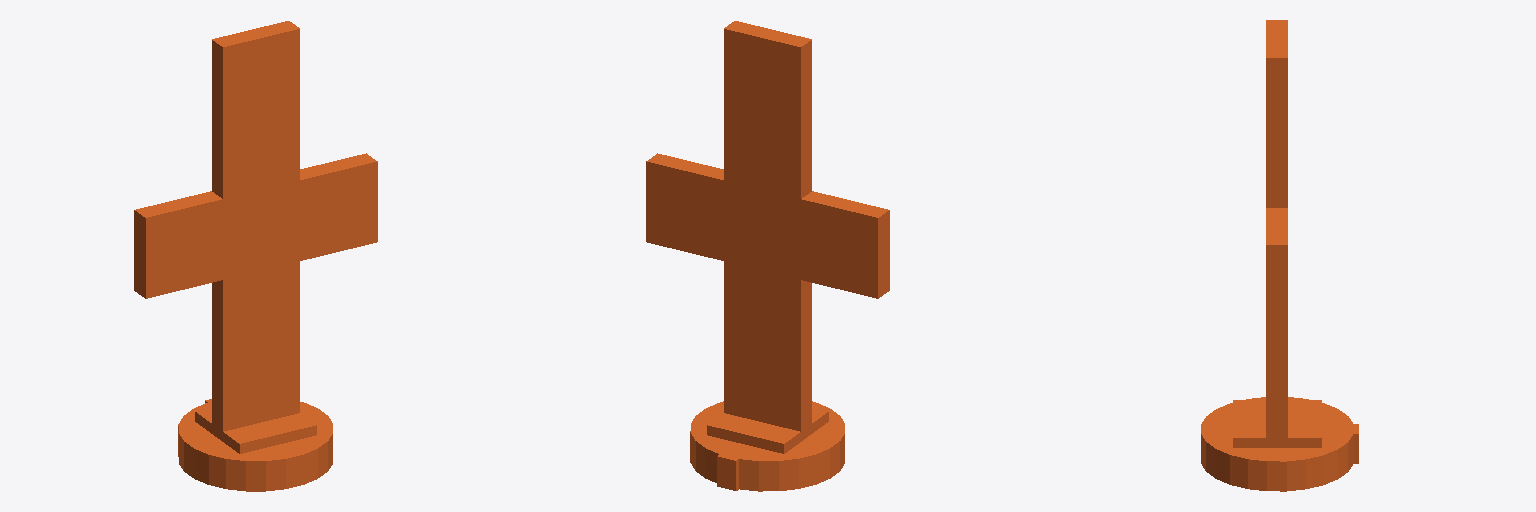
The robot description file, URDF, robot "cutter":
<?xml version="1.0" encoding="utf-8"?>
<!-- This URDF was automatically created by SolidWorks to URDF Exporter! Originally created by [author] ([email redacted]) 
     Commit Version: 1.6.0-4-g7f85cfe  Build Version: 1.6.7995.38578
     For more information, please see http://wiki.ros.org/sw_urdf_exporter -->
<robot
  name="cutter">
  <link
    name="base_link">
    <inertial>
      <origin
        xyz="-5.55111512312578E-17 0.000131288128801255 0.14933332391133"
        rpy="0 0 0" />
      <mass
        value="1.11388593420623" />
      <inertia
        ixx="0.0183745836145232"
        ixy="5.68067392054574E-20"
        ixz="-2.52441420322314E-18"
        iyy="0.0200204795749076"
        iyz="1.96449052887922E-05"
        izz="0.00267273481296689" />
    </inertial>
    <visual>
      <origin
        xyz="0 0 0"
        rpy="0 0 0" />
      <geometry>
        <mesh
          filename="package://cutter/meshes/base_link.STL" />
      </geometry>
      <material
        name="cutter_color">
        <color
          rgba="0.91 0.46 0.21 1" />
      </material>
    </visual>
    <collision>
      <origin
        xyz="0 0 0"
        rpy="0 0 0" />
      <geometry>
        <mesh
          filename="package://cutter/meshes/base_link.STL" />
      </geometry>
    </collision>
  </link>
</robot>

--- Render facts (derived) ---
Views: 3 orthographic renders of the robot side by side, from view 1: azimuth 30°, elevation 25°; view 2: azimuth 150°, elevation 25°; view 3: azimuth 270°, elevation 25°.
Model cutter with 1 links and 0 joints (none), rooted at base_link, posed all joints at 0.
Links seen in each view (by area): view 1: base_link; view 2: base_link; view 3: base_link.
Link boxes in pixels (x1,y1,x2,y2): base_link: (134,21,377,491); base_link: (646,21,889,491); base_link: (1201,20,1358,491).
Size in the robot's own frame: 0.24 by 0.1434 by 0.42 metres.
1 mesh visuals loaded from 1 distinct referenced files (1 binary STL).